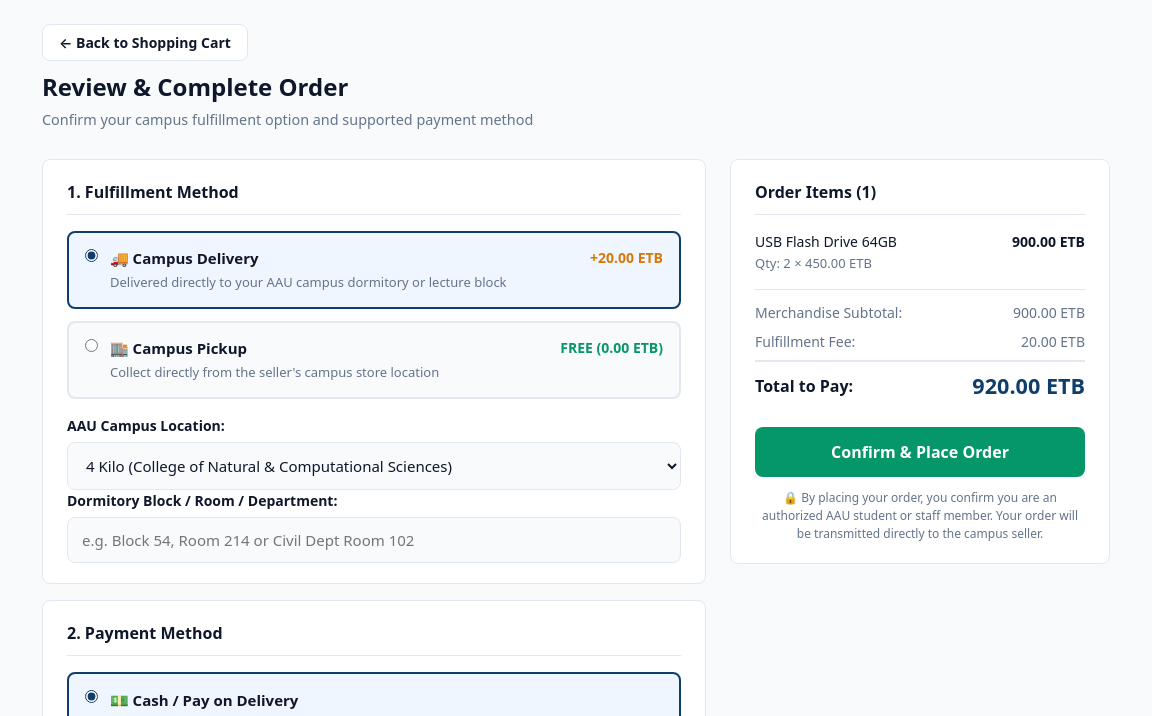
CheckoutPage Component › preserves cart and shows error banner if order placement fails
Type "Block 24, Room 105" into the field with placeholder "e.g. Block 54, Room 214 or Civil Dept Room 102" at (374, 540), box [67,517,681,563]
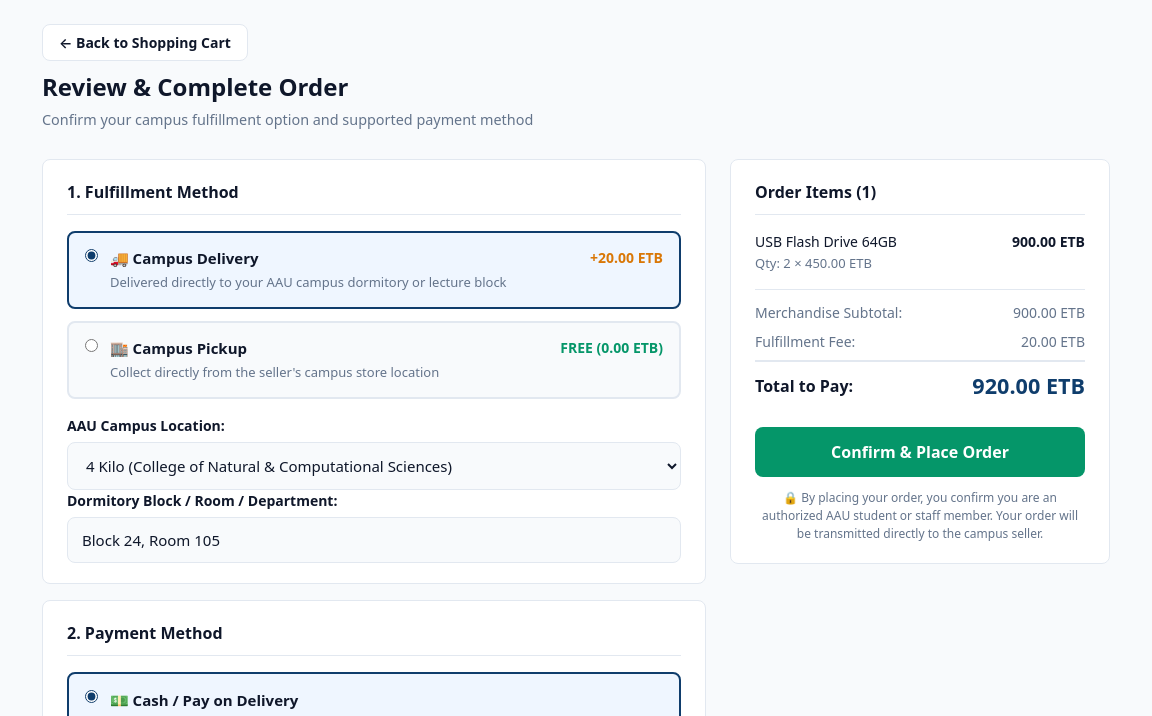
Click the button with test id "btn-confirm-order" at (920, 452), box [755,426,1085,476]
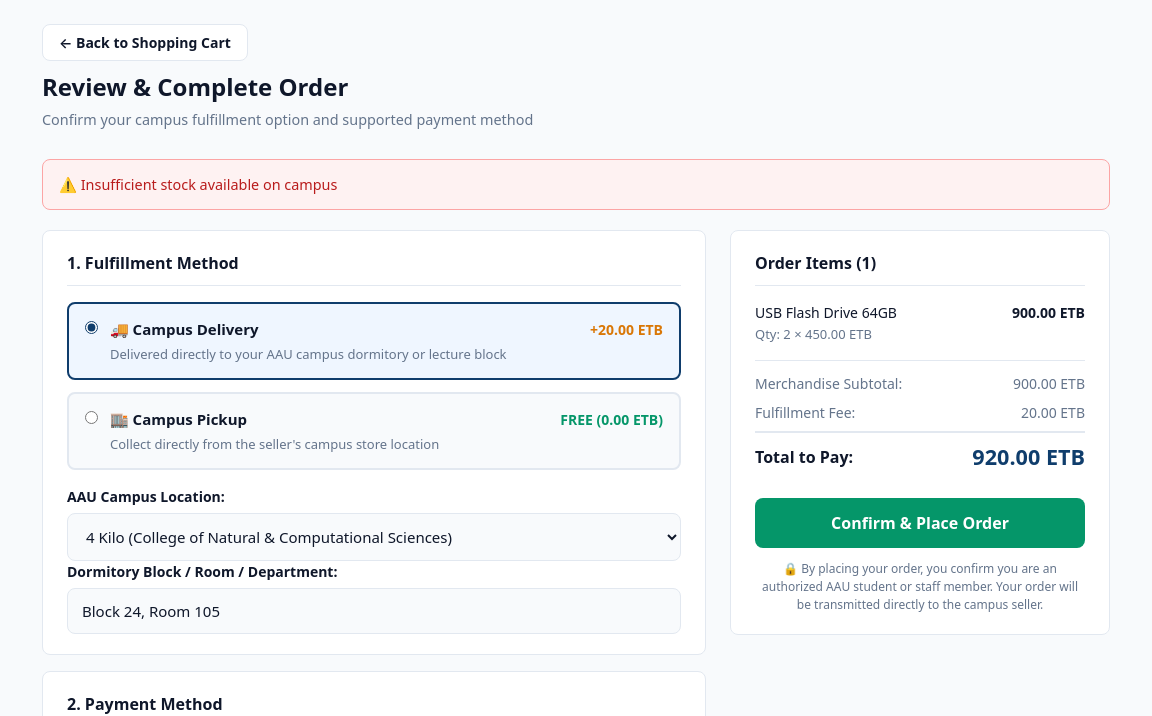
Expected: the message with test id "checkout-error-banner" shows "Insufficient stock available on campus", [81,175,337,194]
